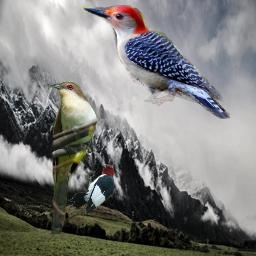Cuckoo: (47, 81, 99, 234)
Woodpecker: (83, 5, 230, 119), (68, 161, 114, 214)
